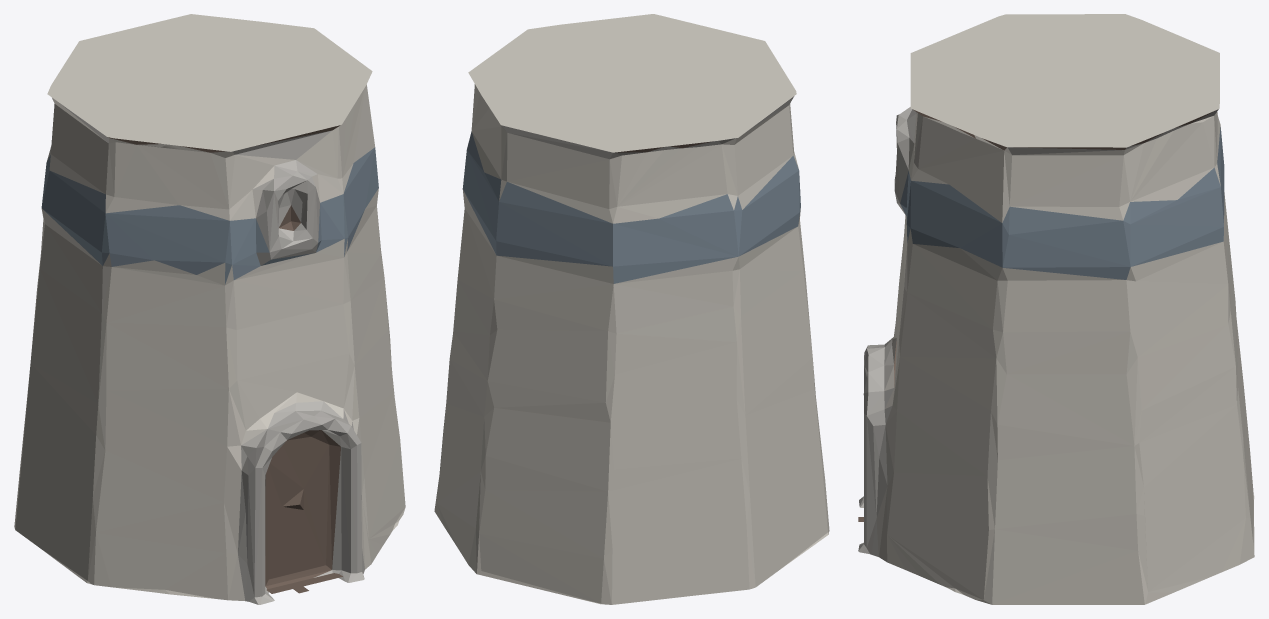
File: etape-1.glb
3 renders of one model, left to right at view 1: azimuth 30°, elevation 25°; view 2: azimuth 150°, elevation 25°; view 3: azimuth 270°, elevation 25°, orthographic. The views are drawn at different scales.
Visible parts, largest first — view 1: geometry_0; view 2: geometry_0; view 3: geometry_0.
Part boxes in pixels (x1,y1,x2,y2): geometry_0: (14,14,405,604); geometry_0: (434,14,829,604); geometry_0: (858,14,1254,604).
Bounding box in the file's own units: 0.4035 × 0.528 × 0.4264.
